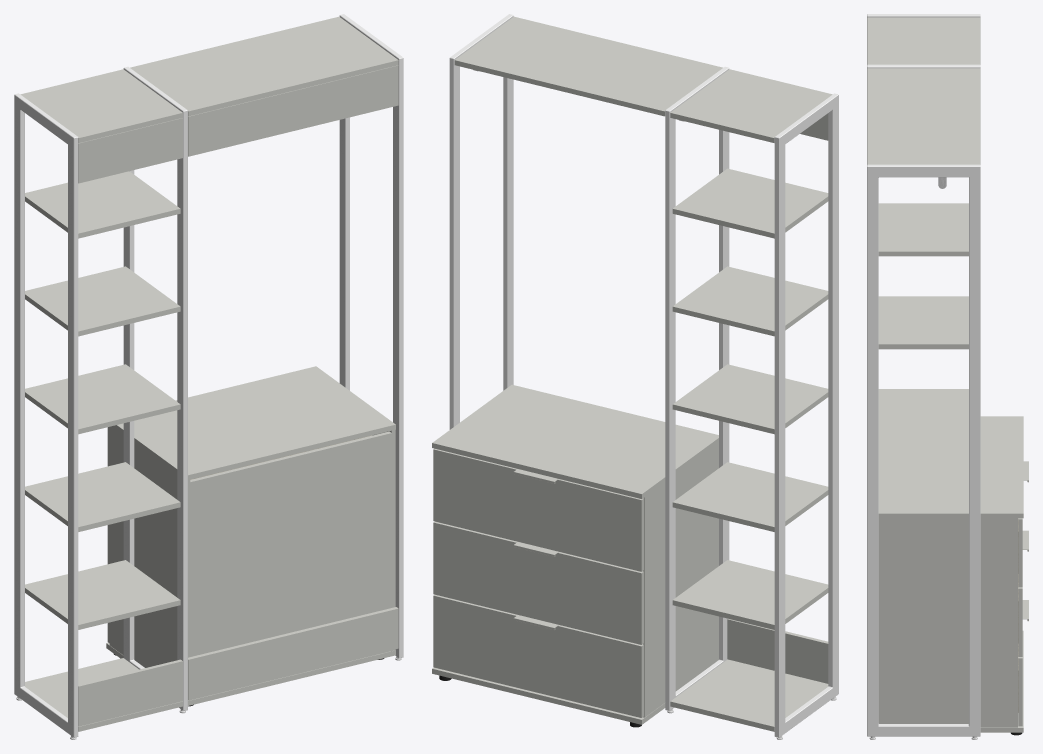
Rendered from dr_sys_b.glb.
3 views of the same model, side by side, from view 1: azimuth 30°, elevation 25°; view 2: azimuth 150°, elevation 25°; view 3: azimuth 270°, elevation 25° (orthographic). The views are drawn at different scales.
Parts seen in each view (by area): view 1: node_1489_StaticMeshComponent0, node_1486_StaticMeshComponent0, node_1032_StaticMeshComponent0, node_1480_StaticMeshComponent0, node_957_StaticMeshComponent0, node_1482_StaticMeshComponent0, node_1268_StaticMeshComponent0, node_1488_StaticMeshComponent0, node_1481_StaticMeshComponent0, node_913_StaticMeshComponent0, node_917_StaticMeshComponent0, node_918_StaticMeshComponent0 (+8 smaller); view 2: node_1486_StaticMeshComponent0, node_1498_StaticMeshComponent0, node_1505_StaticMeshComponent0, node_1491_StaticMeshComponent0, node_1032_StaticMeshComponent0, node_1480_StaticMeshComponent0, node_1488_StaticMeshComponent0, node_1268_StaticMeshComponent0, node_957_StaticMeshComponent0, node_913_StaticMeshComponent0, node_921_StaticMeshComponent0, node_916_StaticMeshComponent0 (+6 smaller); view 3: node_1487_StaticMeshComponent0, node_957_StaticMeshComponent0, node_1486_StaticMeshComponent0, node_1480_StaticMeshComponent0, node_913_StaticMeshComponent0, node_916_StaticMeshComponent0, node_917_StaticMeshComponent0, node_918_StaticMeshComponent0, node_1268_StaticMeshComponent0, node_1032_StaticMeshComponent0, node_1490_StaticMeshComponent0, node_1491_StaticMeshComponent0 (+2 smaller).
Part boxes in pixels (bbox=[...]): node_1489_StaticMeshComponent0: bbox=[190, 431, 391, 699]; node_1486_StaticMeshComponent0: bbox=[112, 366, 395, 480]; node_1032_StaticMeshComponent0: bbox=[14, 93, 78, 737]; node_1480_StaticMeshComponent0: bbox=[130, 16, 398, 116]; node_957_StaticMeshComponent0: bbox=[339, 14, 403, 658]; node_1482_StaticMeshComponent0: bbox=[188, 607, 398, 699]; node_1268_StaticMeshComponent0: bbox=[123, 66, 187, 710]; node_1488_StaticMeshComponent0: bbox=[109, 426, 190, 700]; node_1481_StaticMeshComponent0: bbox=[188, 65, 398, 156]; node_913_StaticMeshComponent0: bbox=[20, 69, 182, 142]; node_917_StaticMeshComponent0: bbox=[25, 364, 180, 434]; node_918_StaticMeshComponent0: bbox=[25, 462, 180, 531]; node_1486_StaticMeshComponent0: bbox=[432, 384, 718, 498]; node_1498_StaticMeshComponent0: bbox=[433, 521, 643, 644]; node_1505_StaticMeshComponent0: bbox=[433, 594, 643, 717]; node_1491_StaticMeshComponent0: bbox=[433, 448, 643, 571]; node_1032_StaticMeshComponent0: bbox=[774, 93, 838, 737]; node_1480_StaticMeshComponent0: bbox=[454, 16, 722, 116]; node_1488_StaticMeshComponent0: bbox=[643, 443, 718, 717]; node_1268_StaticMeshComponent0: bbox=[665, 66, 729, 710]; node_957_StaticMeshComponent0: bbox=[449, 14, 513, 429]; node_913_StaticMeshComponent0: bbox=[670, 69, 832, 142]; node_921_StaticMeshComponent0: bbox=[670, 659, 828, 731]; node_916_StaticMeshComponent0: bbox=[672, 266, 828, 336]; node_1487_StaticMeshComponent0: bbox=[878, 518, 1017, 727]; node_957_StaticMeshComponent0: bbox=[867, 164, 980, 736]; node_1486_StaticMeshComponent0: bbox=[878, 416, 1023, 518]; node_1480_StaticMeshComponent0: bbox=[867, 68, 980, 164]; node_913_StaticMeshComponent0: bbox=[867, 17, 980, 64]; node_916_StaticMeshComponent0: bbox=[878, 203, 968, 256]; node_917_StaticMeshComponent0: bbox=[878, 296, 968, 349]; node_918_StaticMeshComponent0: bbox=[878, 389, 968, 416]; node_1268_StaticMeshComponent0: bbox=[867, 64, 980, 164]; node_1032_StaticMeshComponent0: bbox=[867, 14, 980, 64]; node_1490_StaticMeshComponent0: bbox=[980, 630, 1023, 732]; node_1491_StaticMeshComponent0: bbox=[1018, 518, 1022, 587].
Size of the model in its own units: 1.24 by 2.17 by 0.5557.
Materials: 5 (2 with a texture image).
